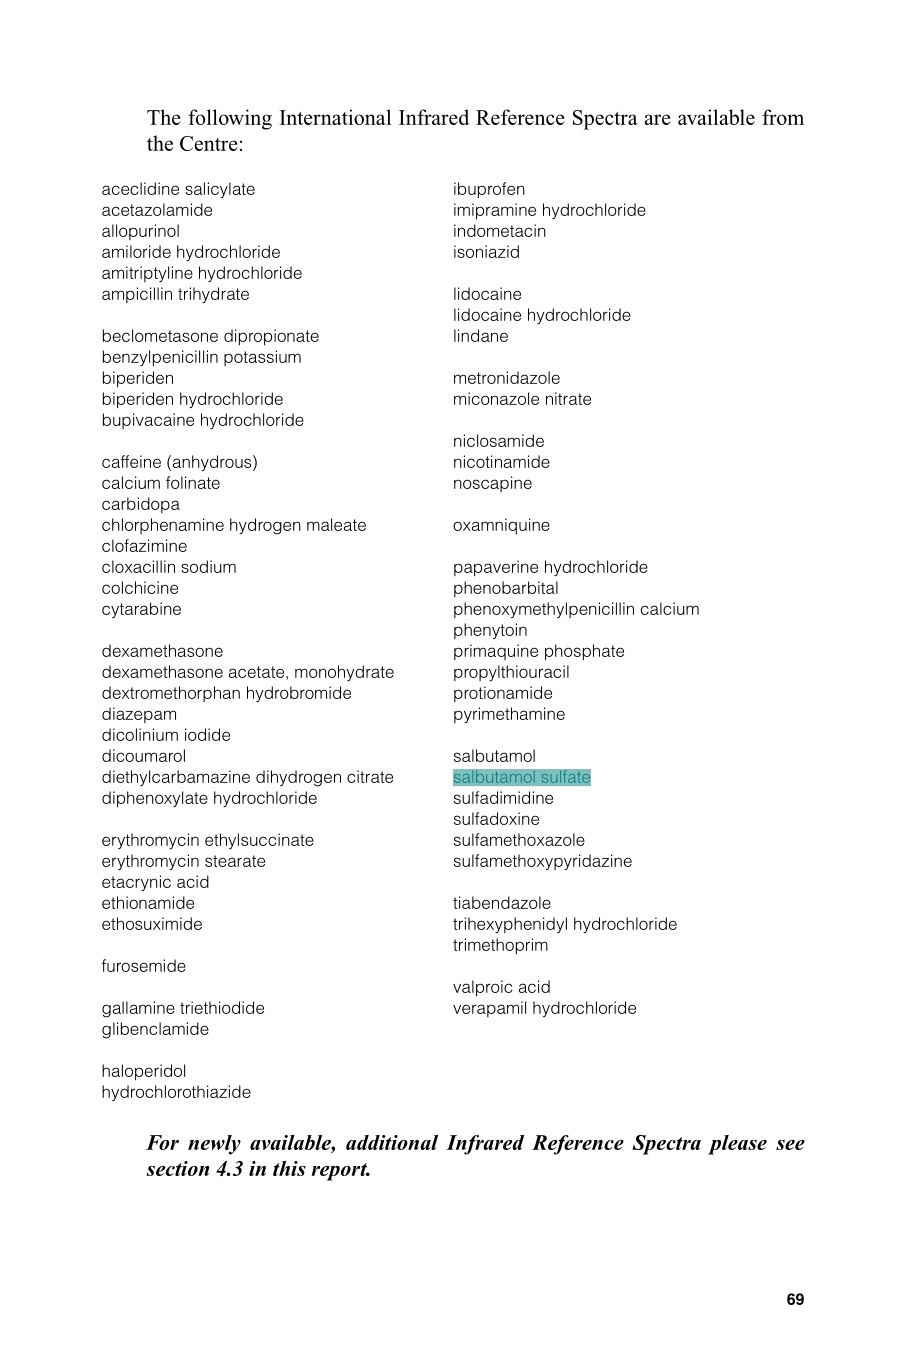nolines: (96, 180, 701, 1105)
